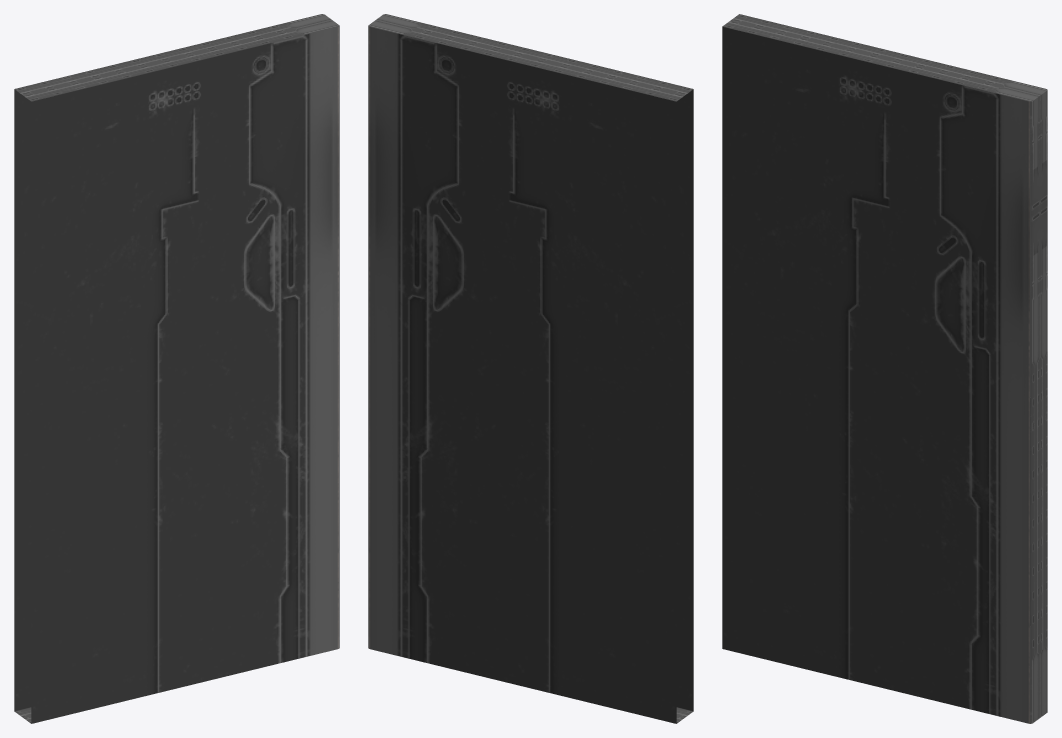
The model's file is Door_DarkMetal.gltf.
The picture shows the model from 3 angles, left to right: view 1: azimuth 30°, elevation 25°; view 2: azimuth 150°, elevation 25°; view 3: azimuth 330°, elevation 25°; orthographic projection.
Visible parts, largest first — view 1: Door_DarkMetal; view 2: Door_DarkMetal; view 3: Door_DarkMetal.
Part boxes in pixels (<box>): Door_DarkMetal: <box>14,14,339,723</box>; Door_DarkMetal: <box>368,14,693,723</box>; Door_DarkMetal: <box>722,14,1047,723</box>.
Bounding box in the file's own units: 2.11 × 4.05 × 0.2032.
Materials: 1 (1 with a texture image).
